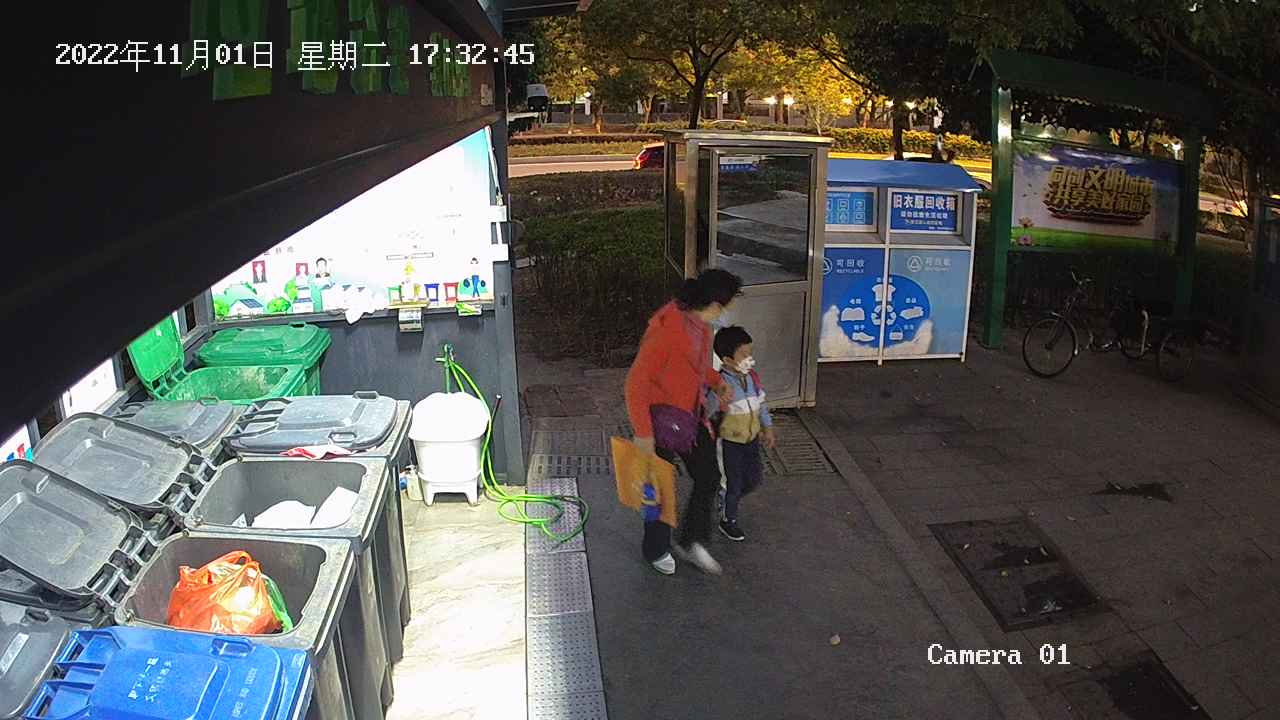person: (701, 322, 778, 545)
suliaozhipin: (635, 457, 665, 526)
worker: (623, 266, 747, 582)
zhizhipin: (607, 430, 679, 533)
